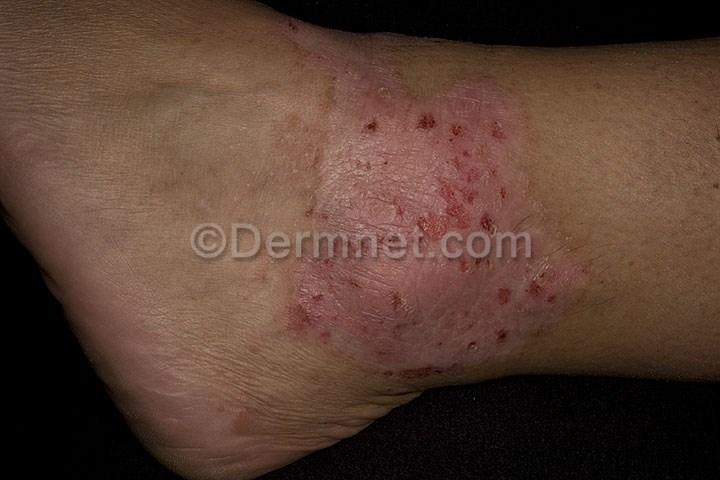Eczema: (270, 29, 601, 229), (288, 260, 602, 383)
